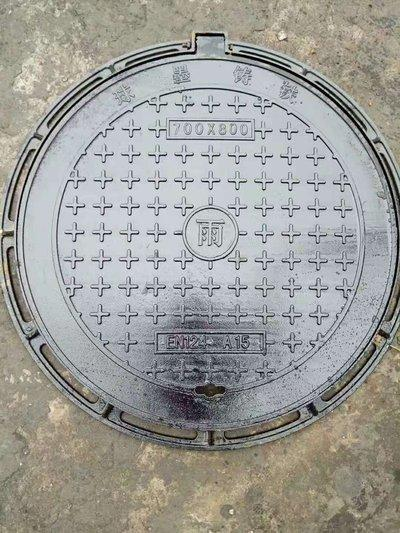wellcover: (8, 14, 400, 456)
